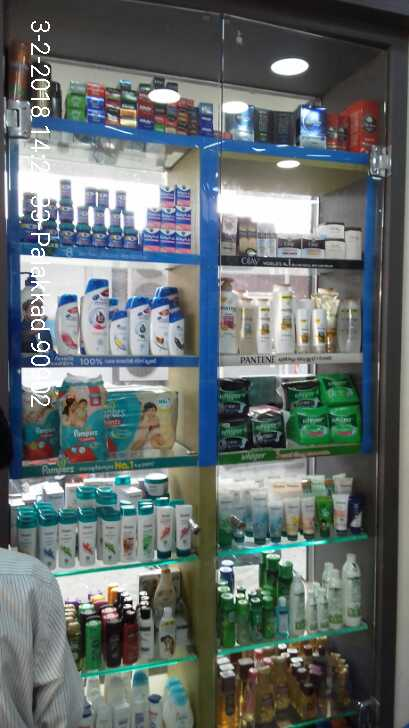vicks: (21, 179, 195, 252)
